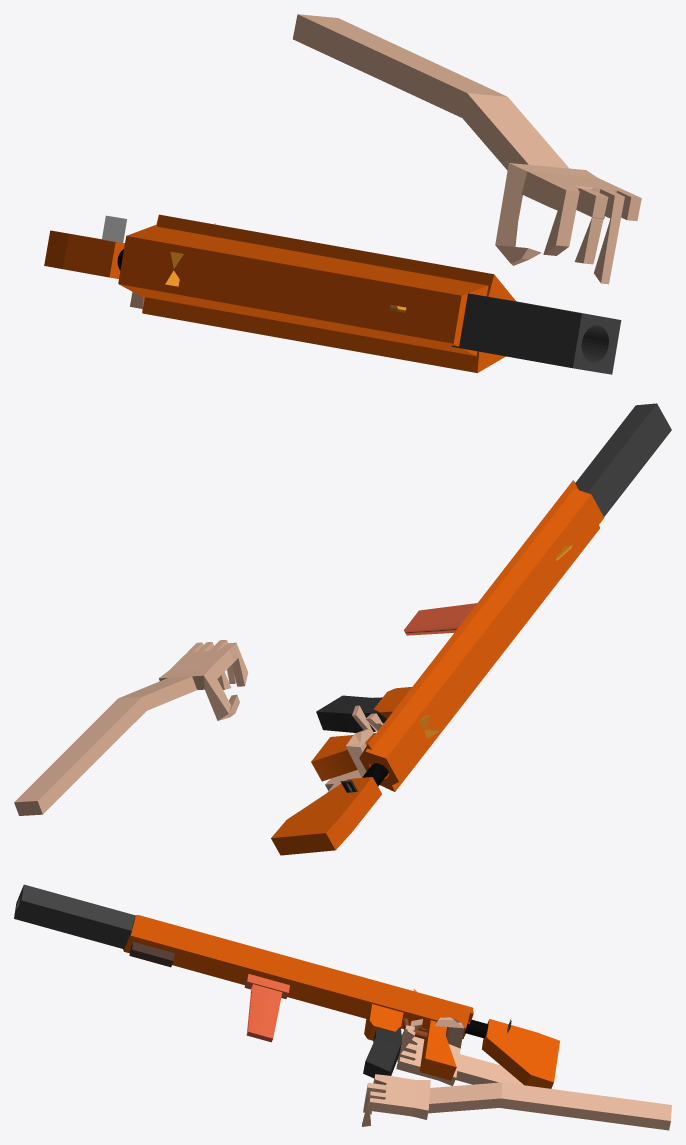
File: ar reload 8.fbx
The picture shows the model from 3 angles, top to bottom: view 1: azimuth 30°, elevation 25°; view 2: azimuth 150°, elevation 25°; view 3: azimuth 270°, elevation 25°; orthographic projection. The views are drawn at different scales.
Parts seen in each view (by area): view 1: Cube.011, Cube.013, Cube.008, Cube.005, Cube.009, Plane; view 2: Cube.011, Cube.013, Cube.005, Cube.009, Cube.008, Cube.004, Cube.012, Cube.002, Cube; view 3: Cube.008, Cube.013, Cube.005, Cube.009, Cube, Cube.012, Cube.002, Cube.001, Cube.004, Cube.010, Cube.003, Cube.011.
Part boxes in pixels (bbox=[...]): Cube.011: bbox=[118, 225, 488, 356]; Cube.013: bbox=[293, 14, 641, 284]; Cube.008: bbox=[142, 214, 515, 372]; Cube.005: bbox=[451, 293, 621, 374]; Cube.009: bbox=[44, 230, 124, 278]; Plane: bbox=[102, 215, 126, 242]; Cube.011: bbox=[365, 489, 604, 787]; Cube.013: bbox=[14, 640, 248, 815]; Cube.005: bbox=[575, 403, 671, 516]; Cube.009: bbox=[271, 777, 381, 855]; Cube.008: bbox=[359, 480, 599, 791]; Cube.004: bbox=[316, 695, 386, 732]; Cube.012: bbox=[404, 603, 477, 635]; Cube.002: bbox=[311, 733, 375, 781]; Cube: bbox=[325, 705, 383, 792]; Cube.008: bbox=[123, 915, 471, 1036]; Cube.013: bbox=[362, 1074, 671, 1130]; Cube.005: bbox=[14, 884, 135, 949]; Cube.009: bbox=[482, 1019, 559, 1088]; Cube: bbox=[396, 1017, 523, 1086]; Cube.012: bbox=[244, 974, 289, 1042]; Cube.002: bbox=[419, 1020, 456, 1080]; Cube.001: bbox=[263, 973, 371, 1017]; Cube.004: bbox=[363, 1027, 401, 1078]; Cube.010: bbox=[364, 1004, 403, 1040]; Cube.003: bbox=[129, 942, 174, 967]; Cube.011: bbox=[138, 915, 473, 1038].
Bounding box in the file's own units: 823 × 688 × 2129.
Materials: 11 (1 with a texture image).
